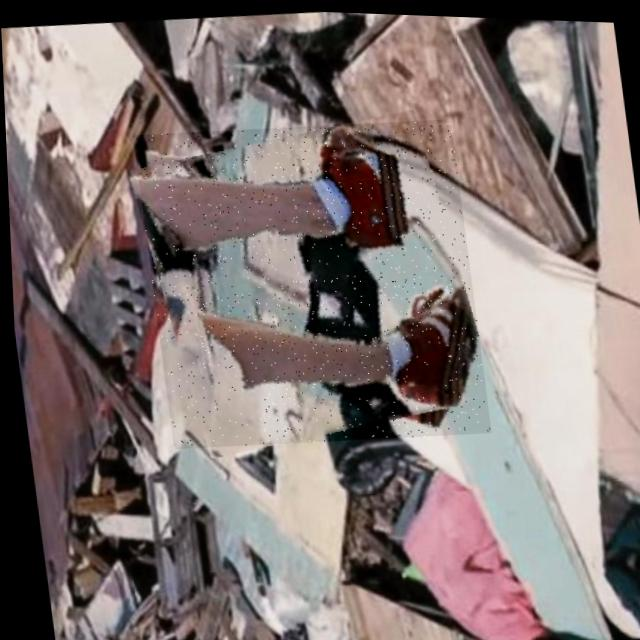Person in Rubble: (130, 105, 488, 456)
